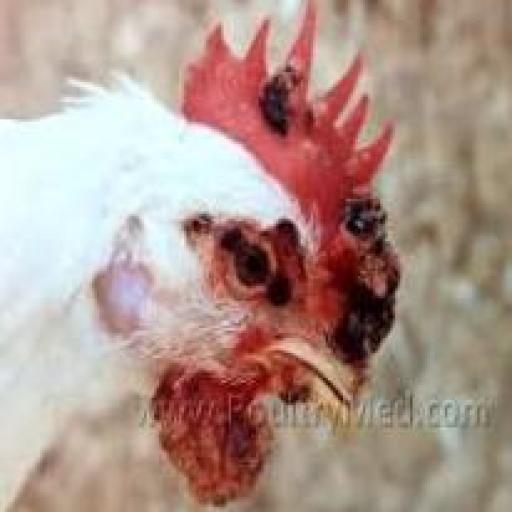disease: (313, 186, 411, 394), (246, 40, 328, 158), (250, 251, 316, 328), (270, 364, 316, 434), (206, 209, 243, 258)
